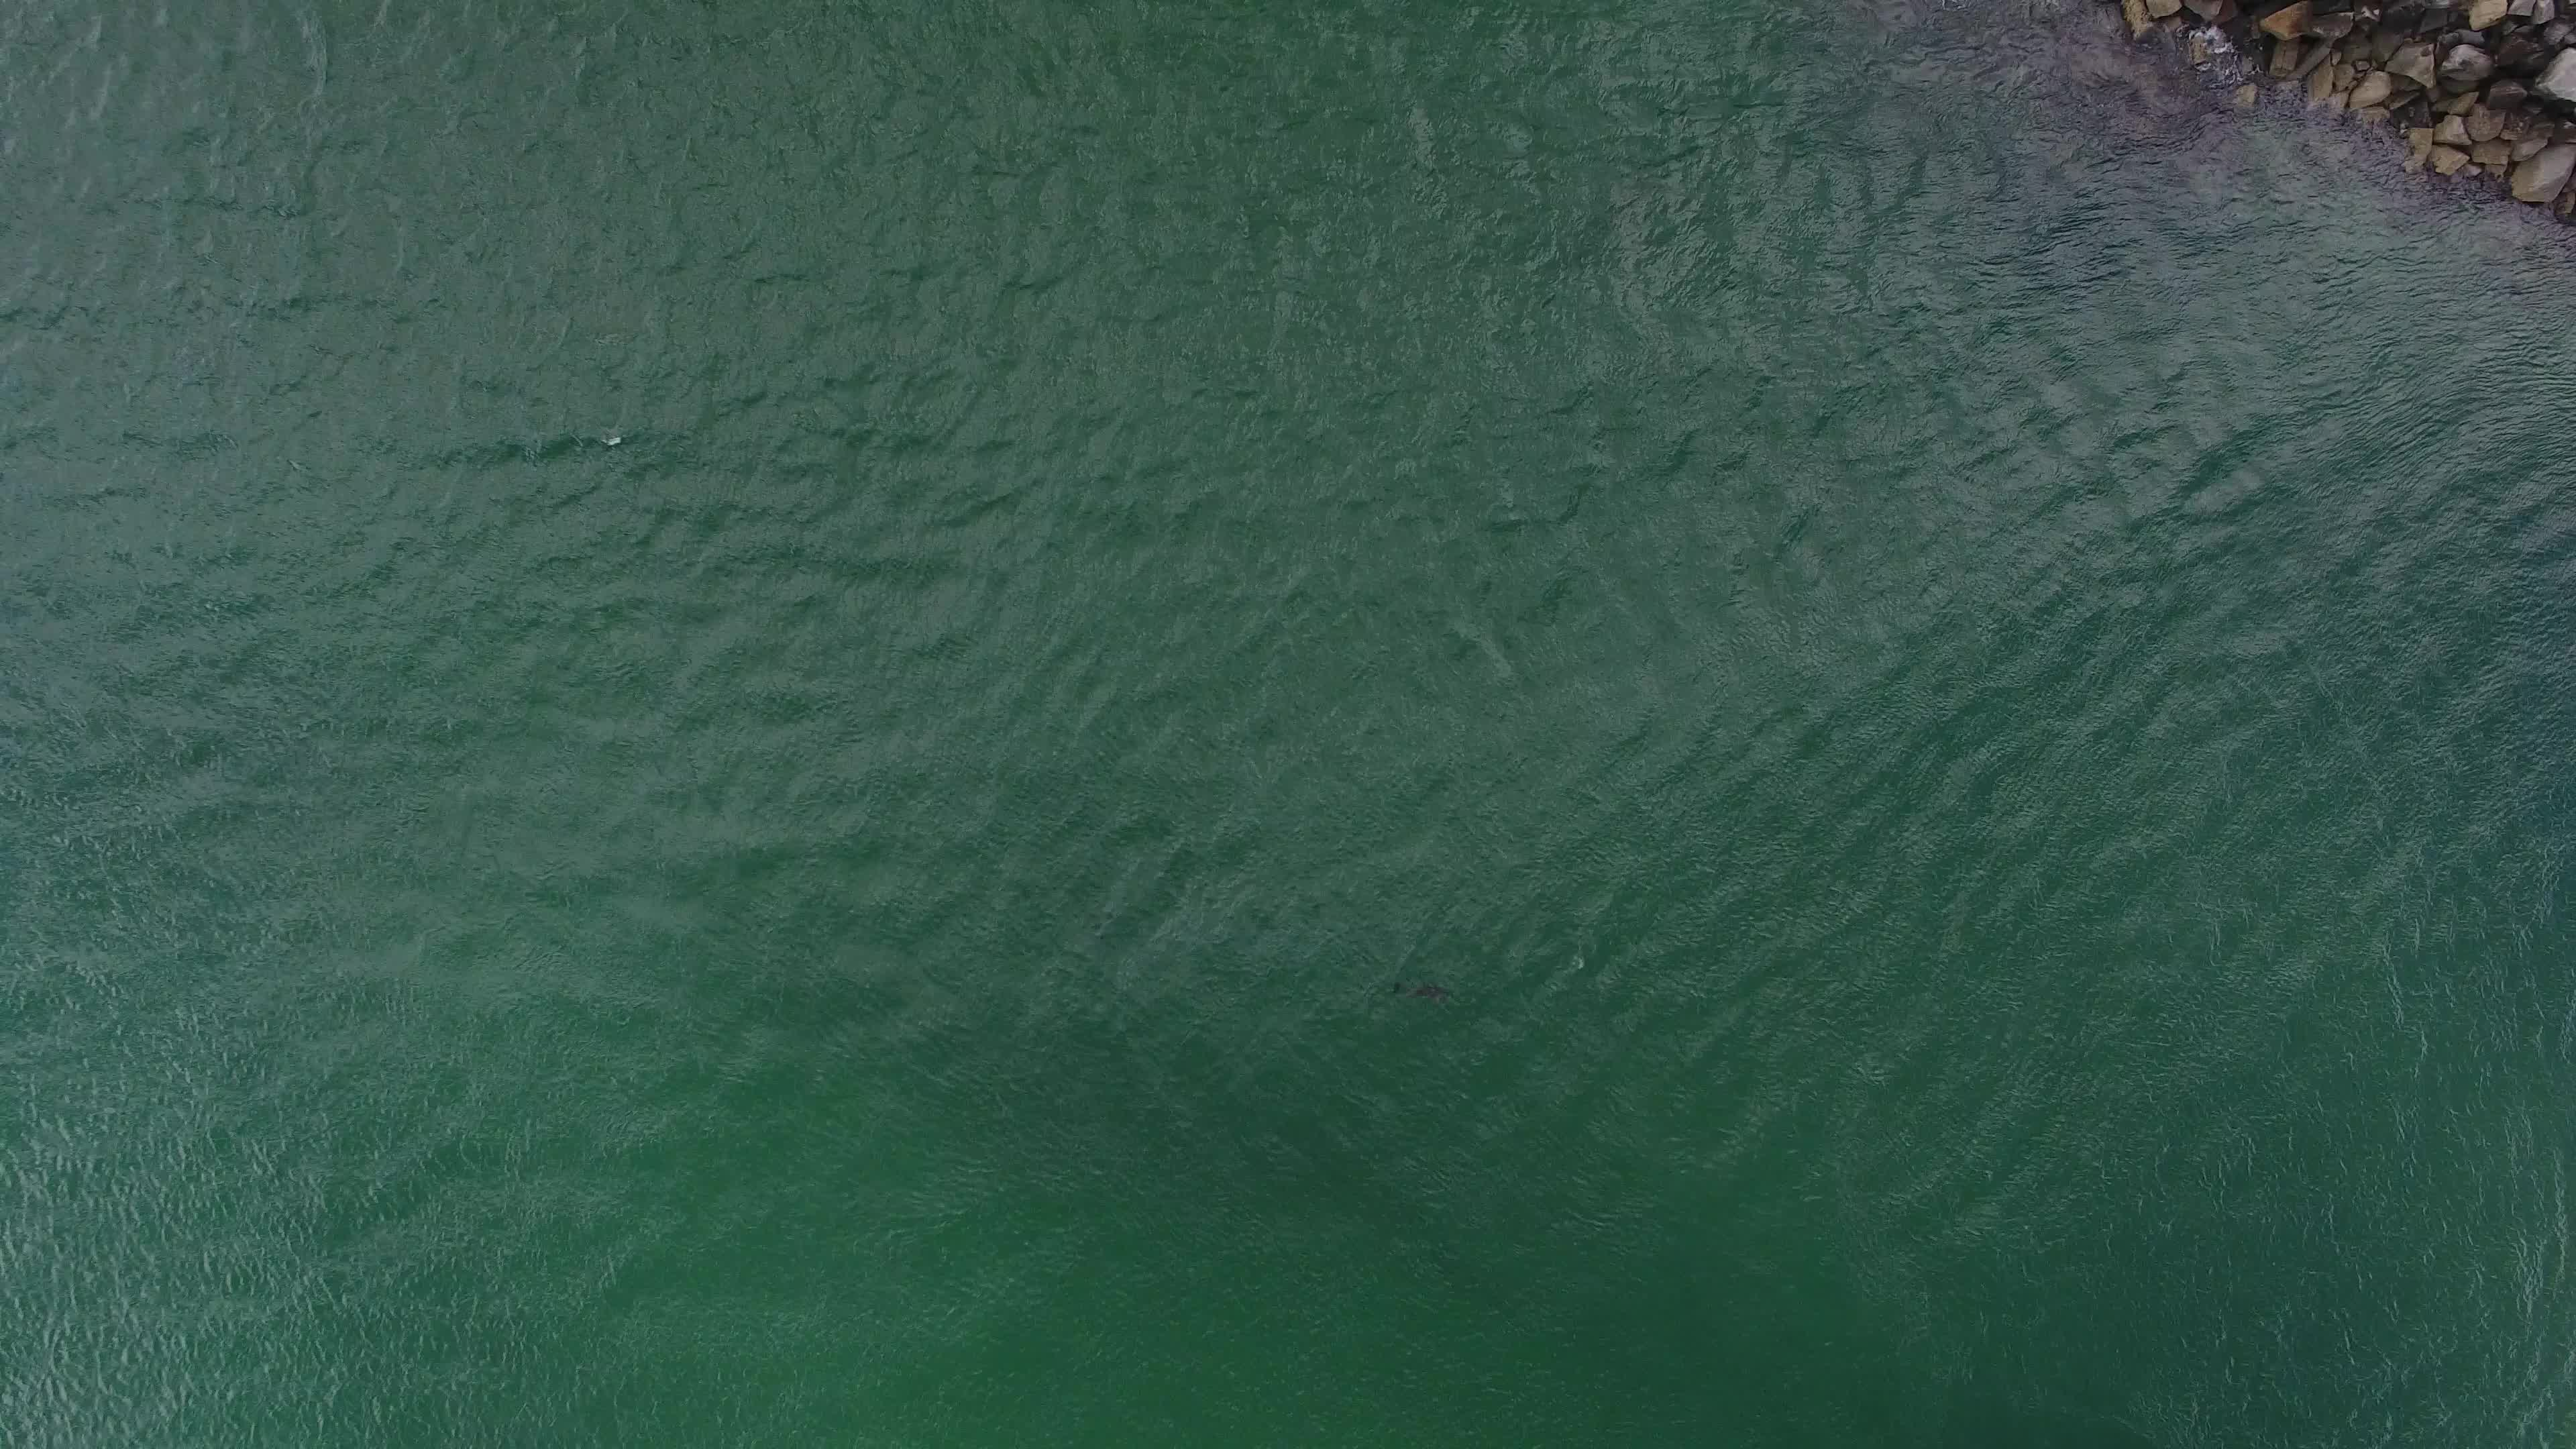dolphin: (1369, 959, 1468, 1023)
